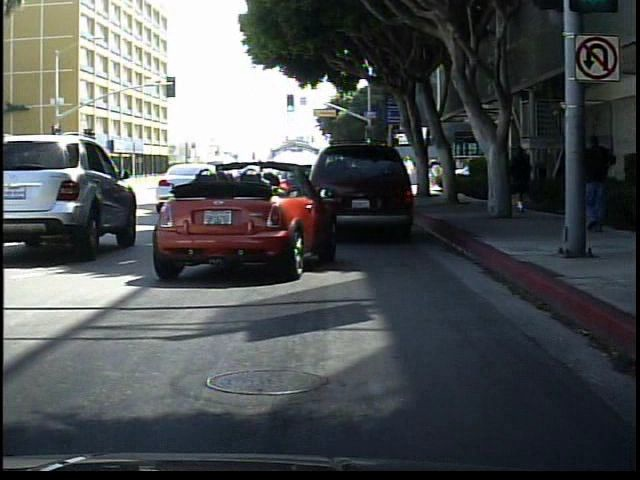person: (581, 132, 623, 238), (508, 141, 537, 213)
